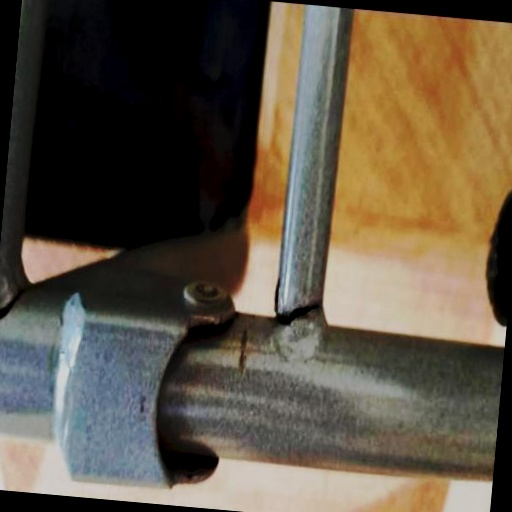crack: (260, 269, 334, 350), (0, 275, 46, 345)
